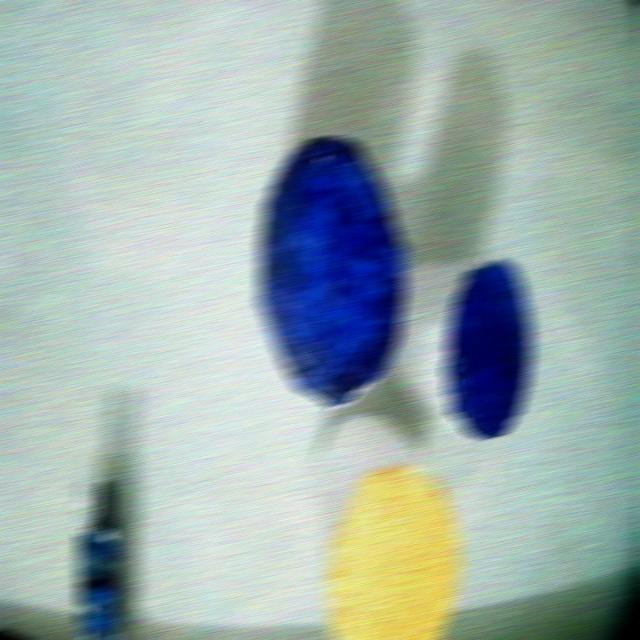blue: (257, 136, 406, 406), (442, 260, 531, 438)
yellow: (324, 464, 461, 639)
